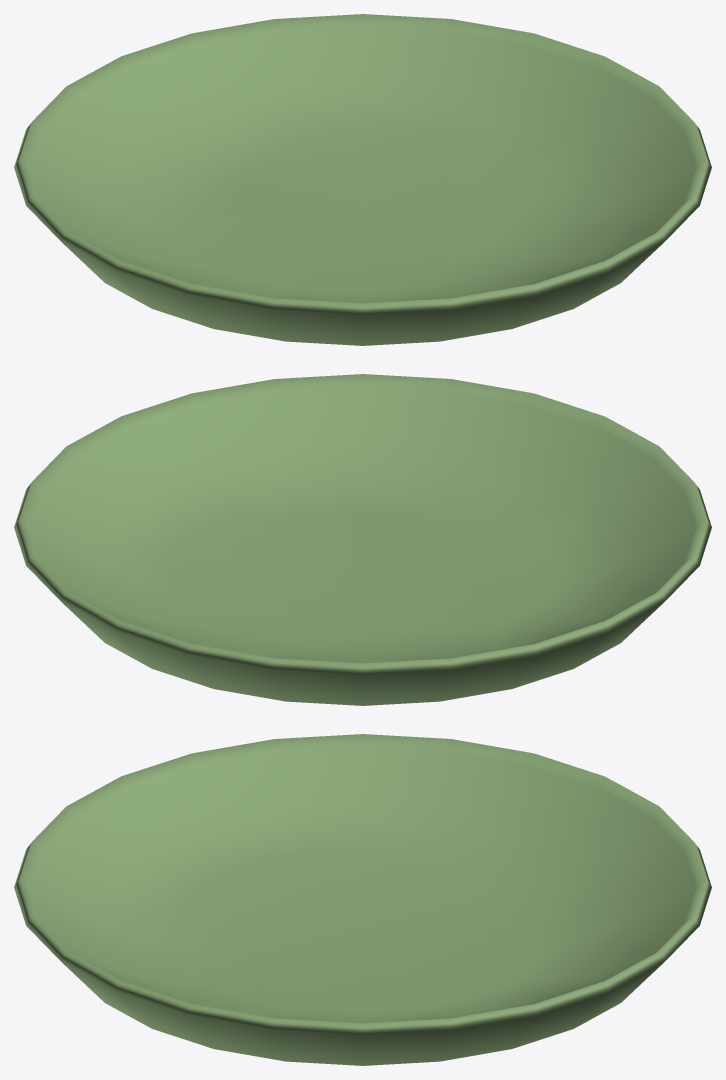
Rendered from Plate_Pile_01_Lod1.fbx.
3 views of the same model, one above another, from view 1: azimuth 30°, elevation 25°; view 2: azimuth 150°, elevation 25°; view 3: azimuth 270°, elevation 25° (orthographic).
Parts seen in each view (by area): view 1: Plate_Pile_01_Lod1; view 2: Plate_Pile_01_Lod1; view 3: Plate_Pile_01_Lod1.
Boxes of the visible parts, <box> form: Plate_Pile_01_Lod1: <box>14,14,711,345</box>; Plate_Pile_01_Lod1: <box>14,374,711,705</box>; Plate_Pile_01_Lod1: <box>14,734,711,1065</box>.
Size of the model in its own units: 23.87 by 3.75 by 23.87.
